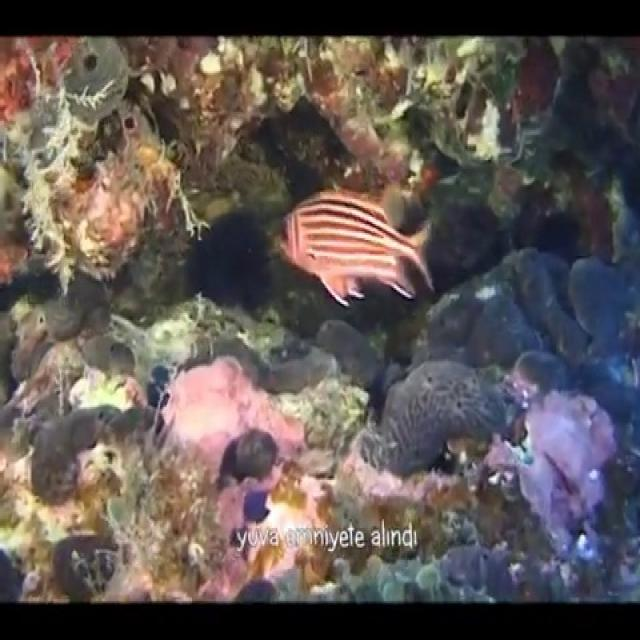Asker Baligi: (277, 185, 436, 309)
